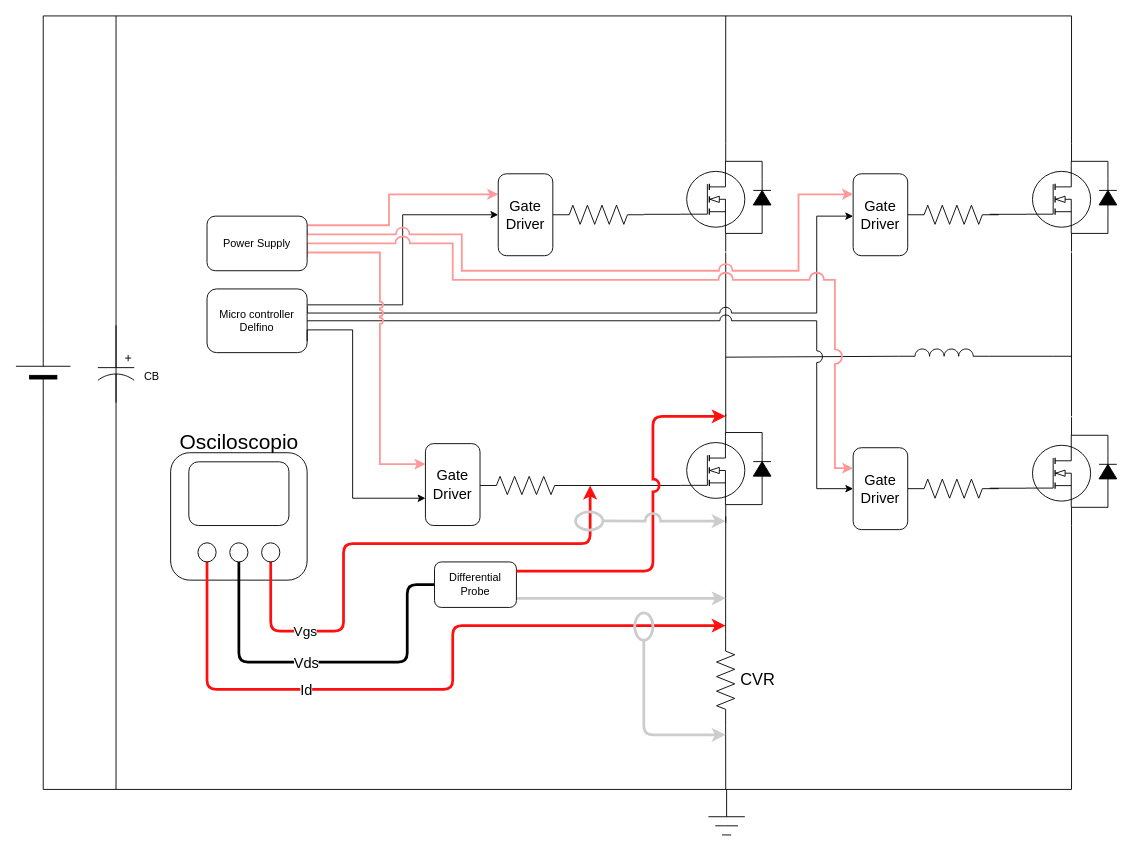
This 1133x852 diagram has some shape labels left out. The box of each missing label's shape, as (x1, y1, x2, y2) in pixels:
CH1: (197, 542, 216, 562)
CH2: (229, 542, 248, 562)
CH3: (261, 542, 280, 562)
